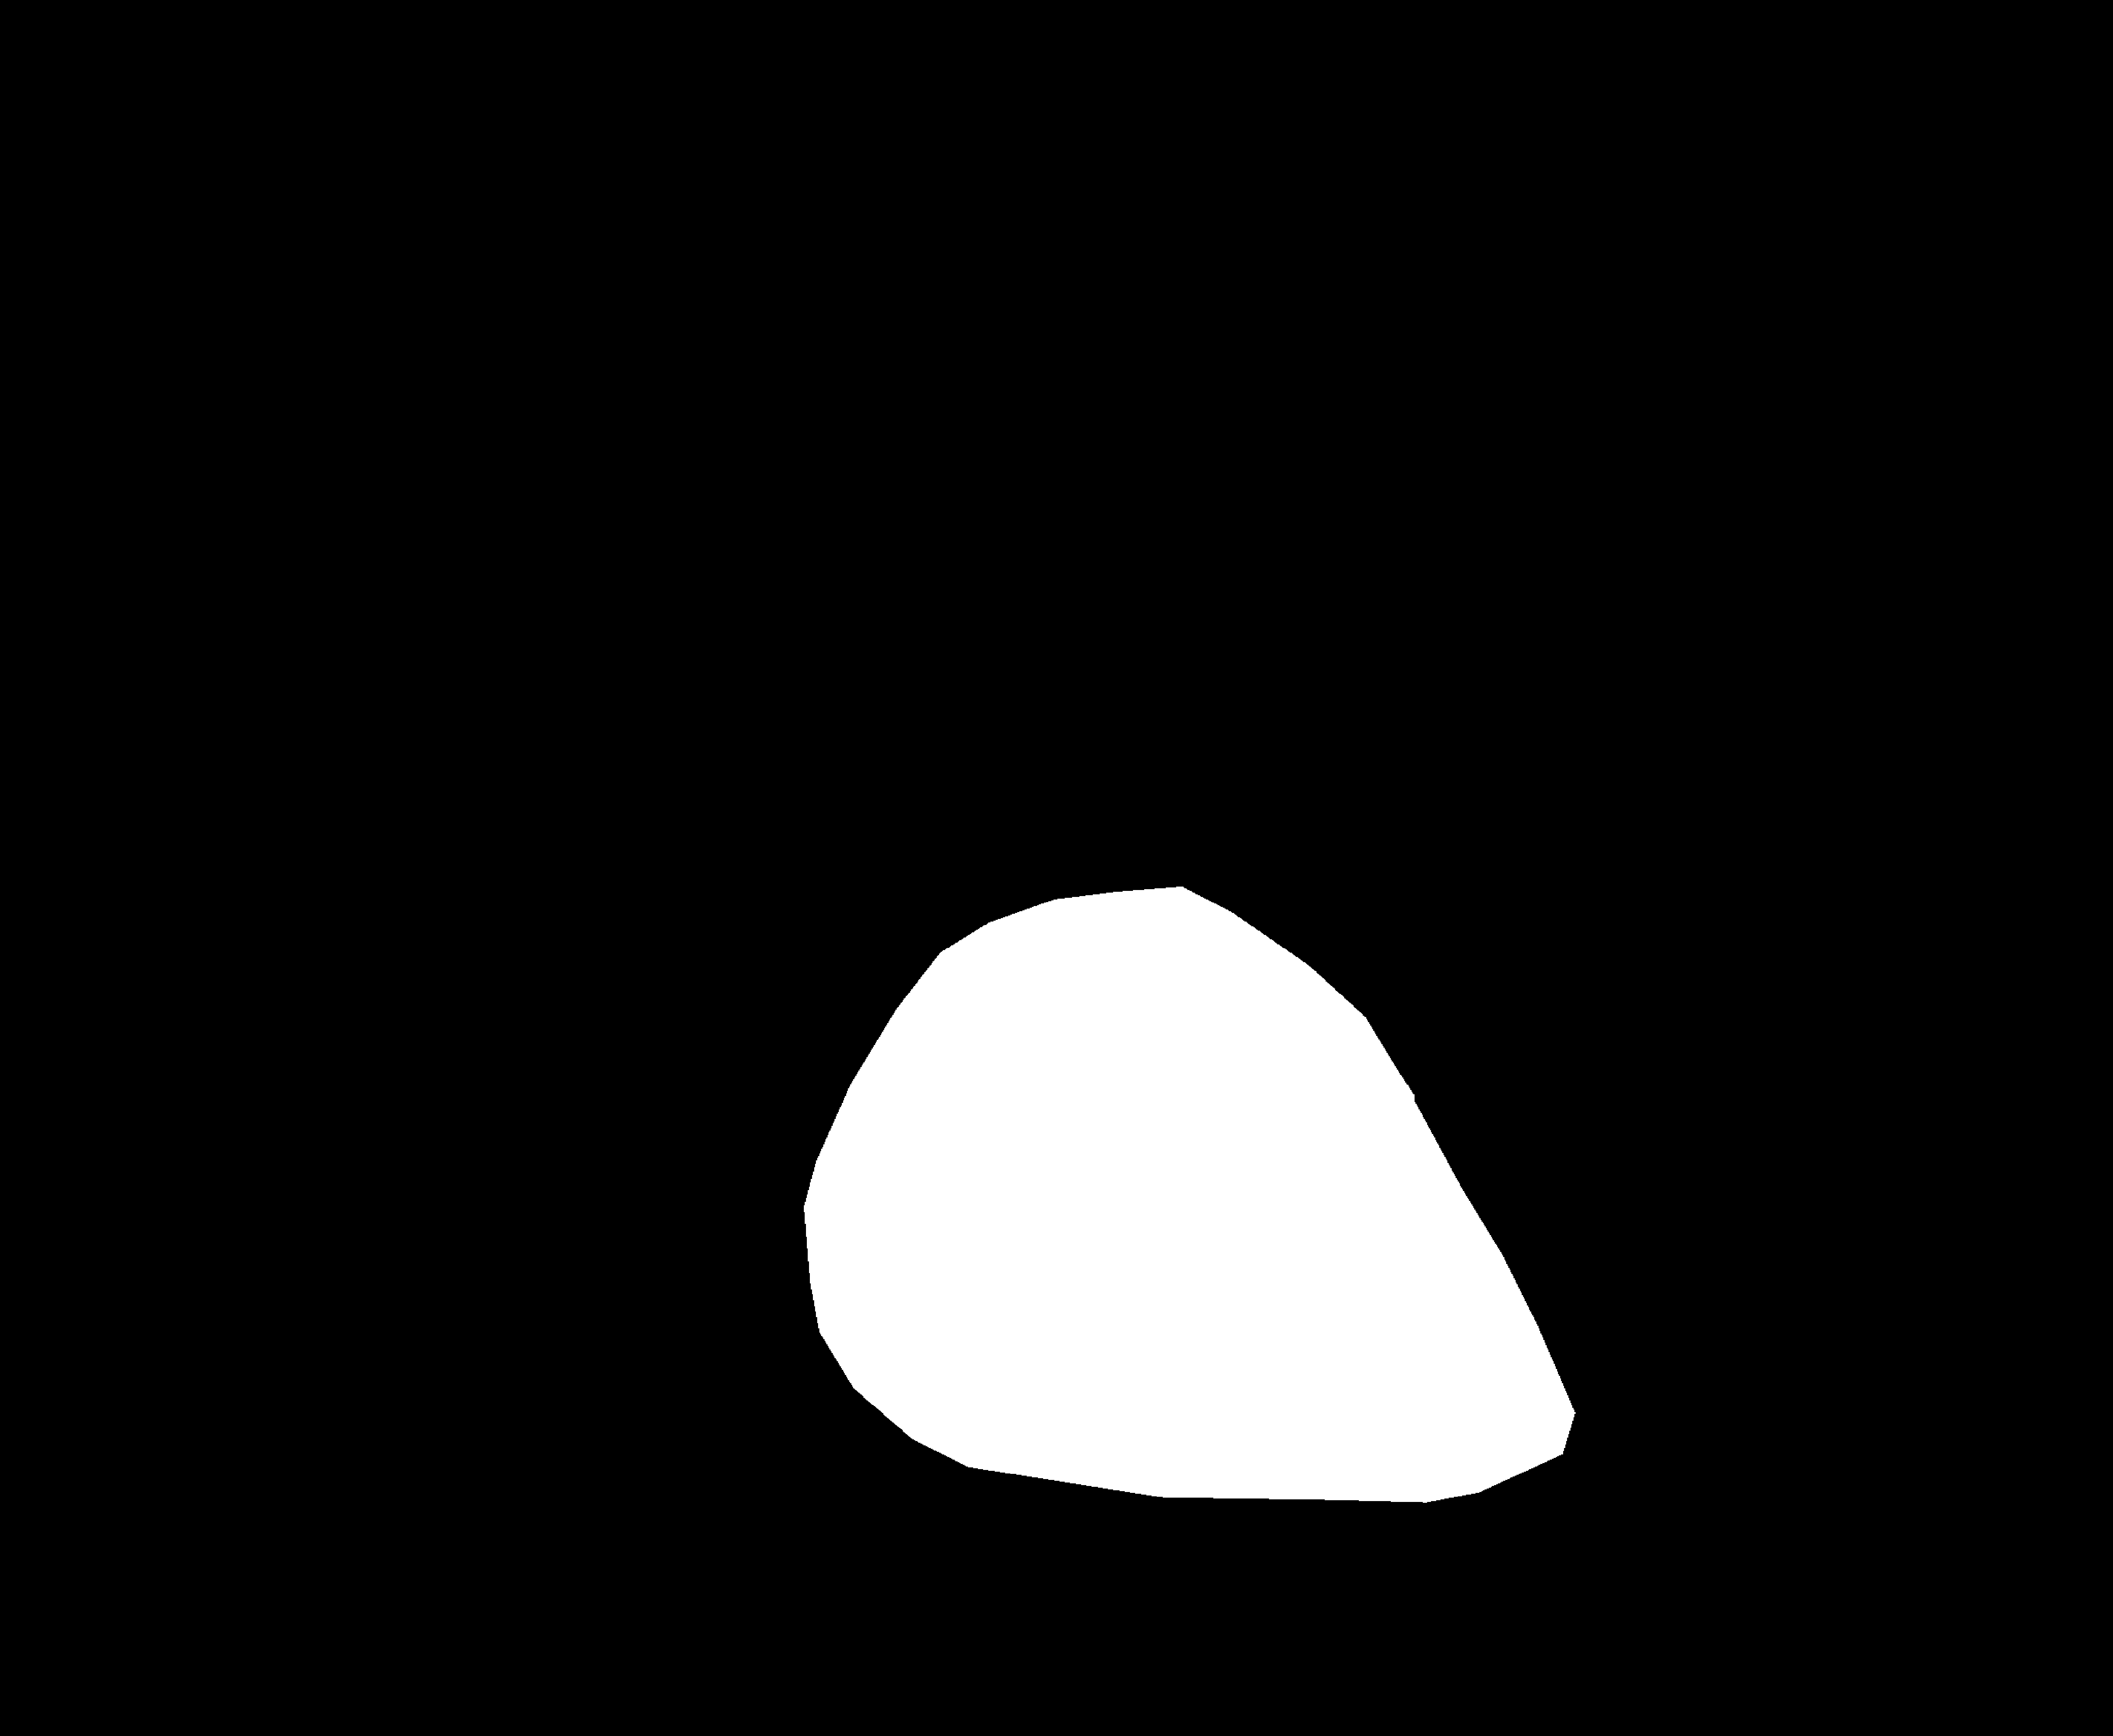heart: (820, 981, 1579, 1534)
left_lung: (309, 302, 1014, 1334)
right_lung: (1125, 311, 1890, 1599)
